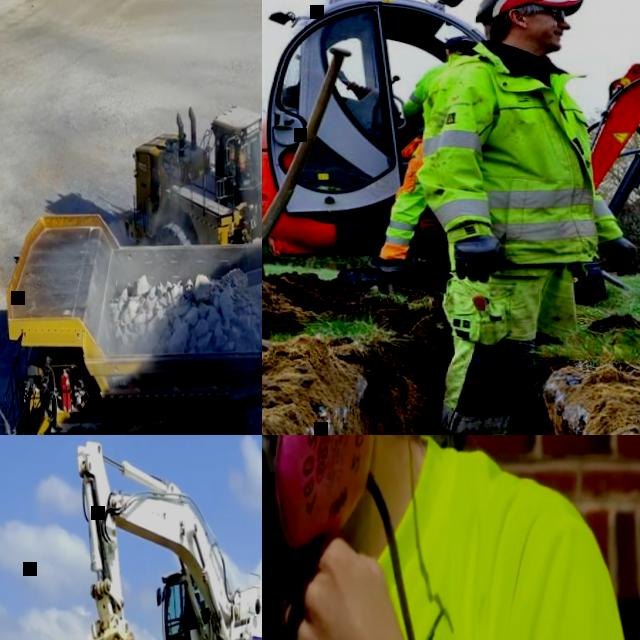Mask: (262, 435, 379, 586)
NO-Hardhat: (486, 0, 565, 13), (442, 34, 476, 48)
NO-Mask: (513, 20, 567, 49)
NO-Safety Vest: (262, 435, 542, 640)
Person: (409, 0, 640, 435), (262, 435, 640, 640), (364, 120, 432, 282), (397, 29, 487, 129), (177, 589, 200, 640)
Safety Vest: (418, 51, 604, 264), (394, 108, 594, 255), (414, 54, 489, 126)
vehicle: (262, 0, 640, 311), (0, 207, 262, 435), (108, 97, 262, 430), (66, 438, 262, 640)
